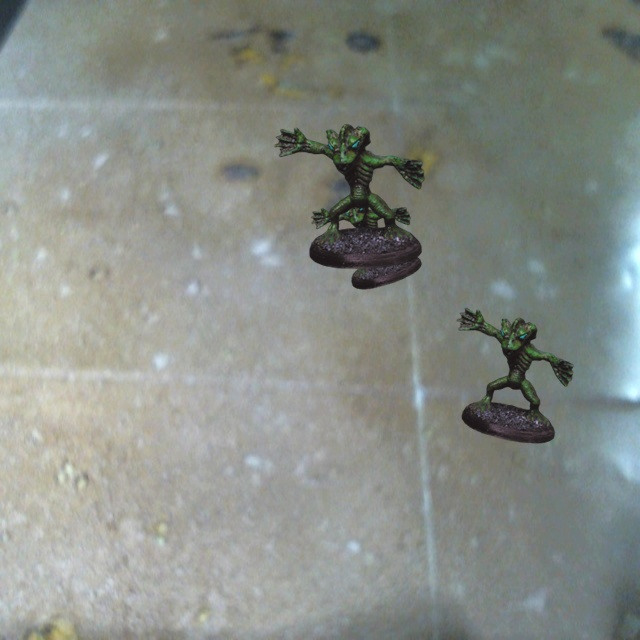pieza_juego: (274, 124, 424, 268), (456, 308, 573, 443), (311, 196, 421, 289)
